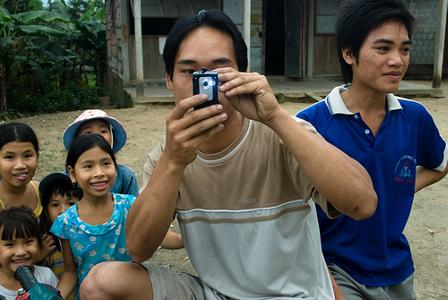person: (78, 9, 379, 300)
